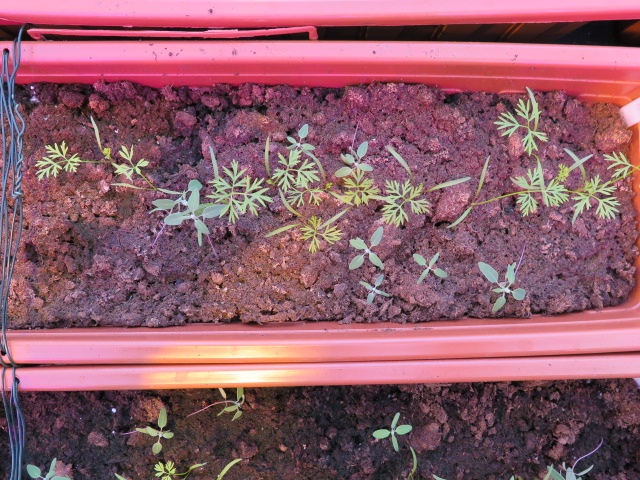crop: (460, 158, 639, 226), (339, 167, 432, 229), (201, 151, 274, 228), (37, 128, 132, 179), (264, 123, 319, 210), (493, 97, 558, 151), (278, 206, 343, 253)
weed: (475, 257, 530, 318), (132, 404, 177, 460), (369, 408, 414, 456), (344, 223, 388, 272), (409, 248, 450, 287), (354, 270, 391, 308)
